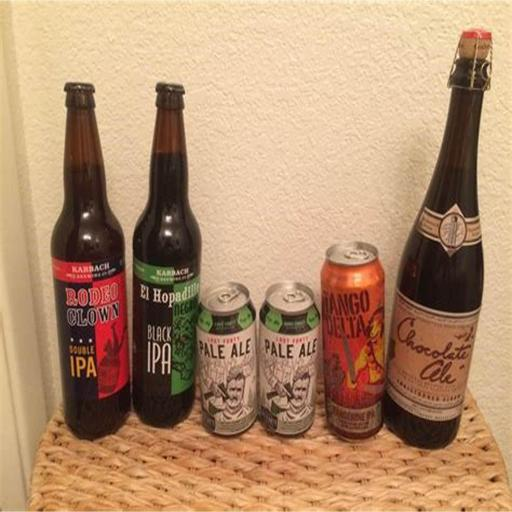can: (318, 240, 386, 440), (196, 280, 259, 436), (258, 281, 320, 437)
glass bottle: (380, 29, 492, 451), (50, 80, 132, 443), (130, 82, 202, 430)
pop tab: (218, 286, 241, 303), (344, 248, 369, 260), (283, 290, 306, 302)
